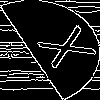X: (25, 25, 97, 75)
